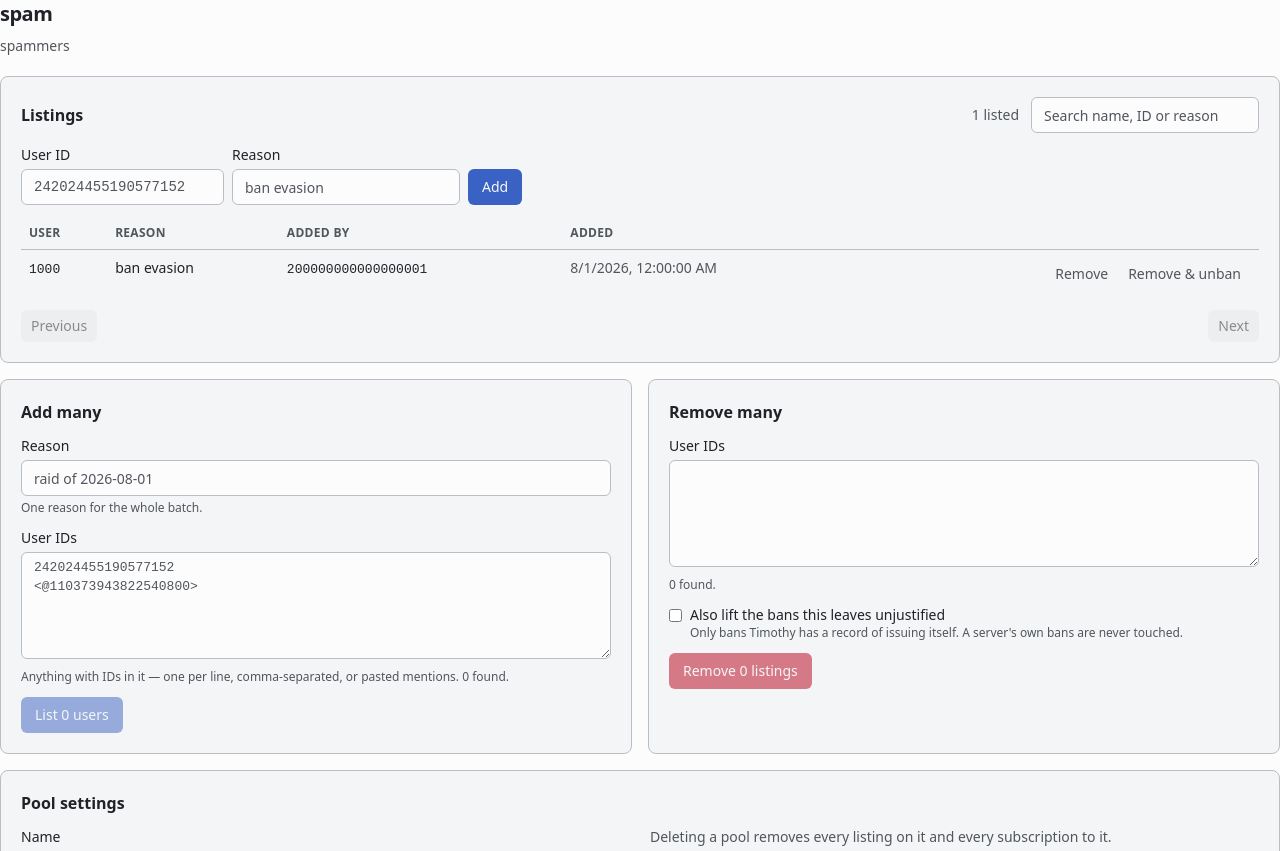
Test case: removing a listing › asks before it does anything
expect the text "1000" is shown: met, box [29,262,60,277]
Click the button "Remove". click: (1082, 274)
box: [1045,258,1118,290]
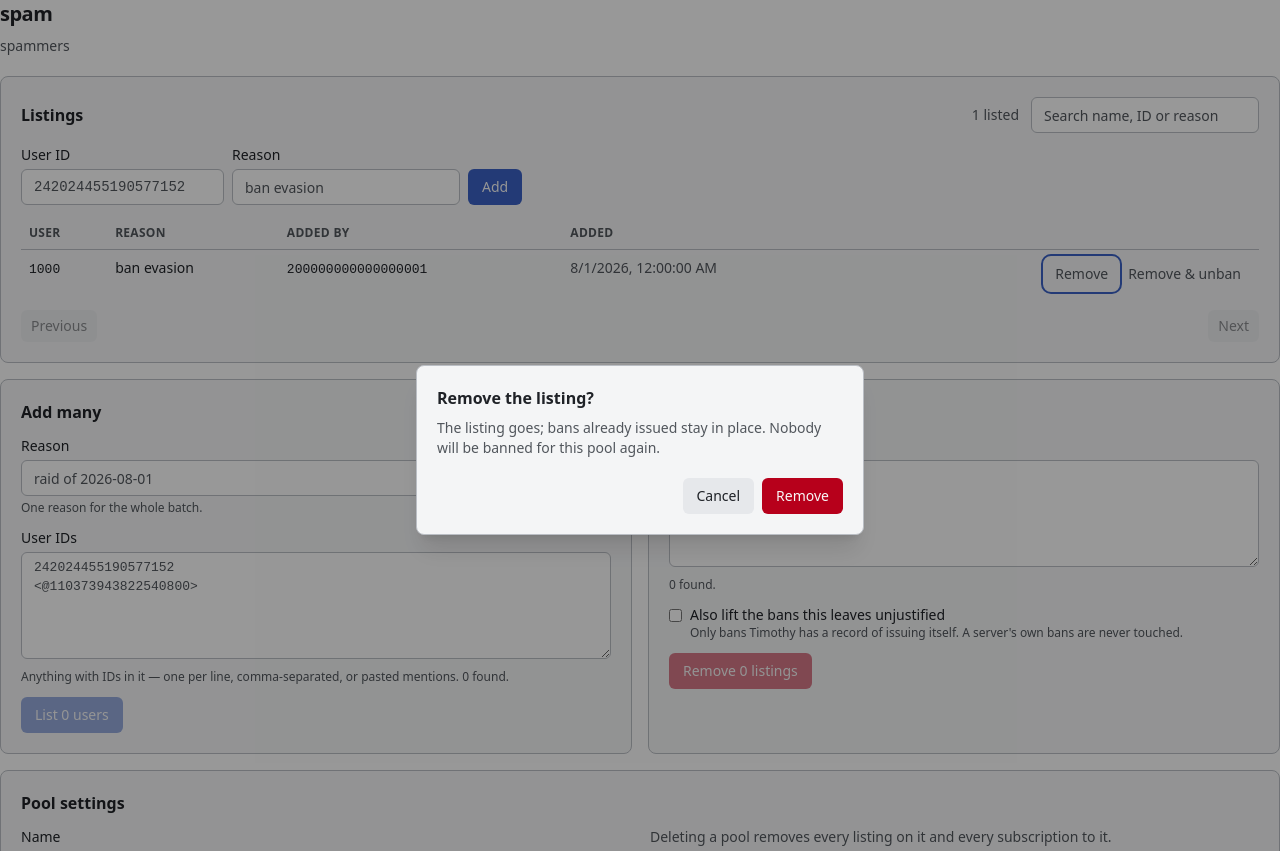
expect the dialog shows "bans already issued stay": met, box [437,418,821,457]
